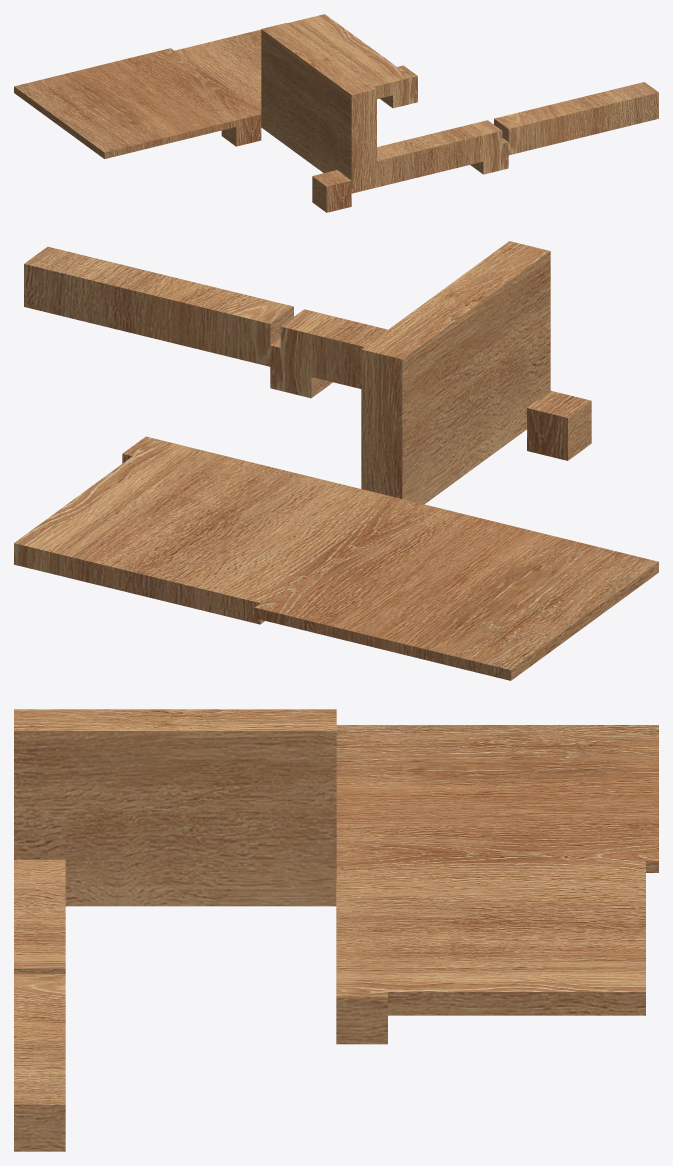
The model's file is 3326_gpt-only.glb.
The picture shows the model from 3 angles, top to bottom: view 1: azimuth 30°, elevation 25°; view 2: azimuth 150°, elevation 25°; view 3: azimuth 270°, elevation 25°; orthographic projection. The views are drawn at different scales.
Parts seen in each view (by area): view 1: ParentEmpty; view 2: ParentEmpty; view 3: ParentEmpty.
Boxes of the visible parts, x1,y1,x2,y2 form: ParentEmpty: [14, 14, 658, 212]; ParentEmpty: [14, 241, 658, 680]; ParentEmpty: [14, 709, 658, 1151].
Bounding box in the file's own units: 1 × 0.2297 × 0.6757.
Materials: 1 (1 with a texture image).
